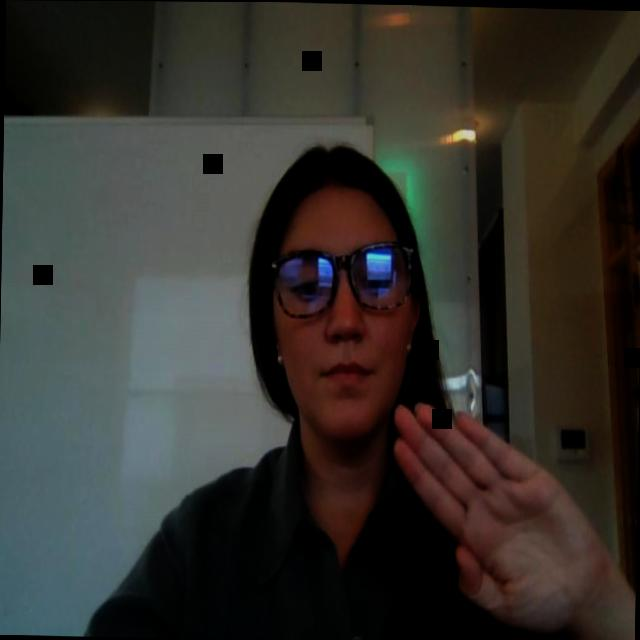Paper: (354, 380, 609, 625)
